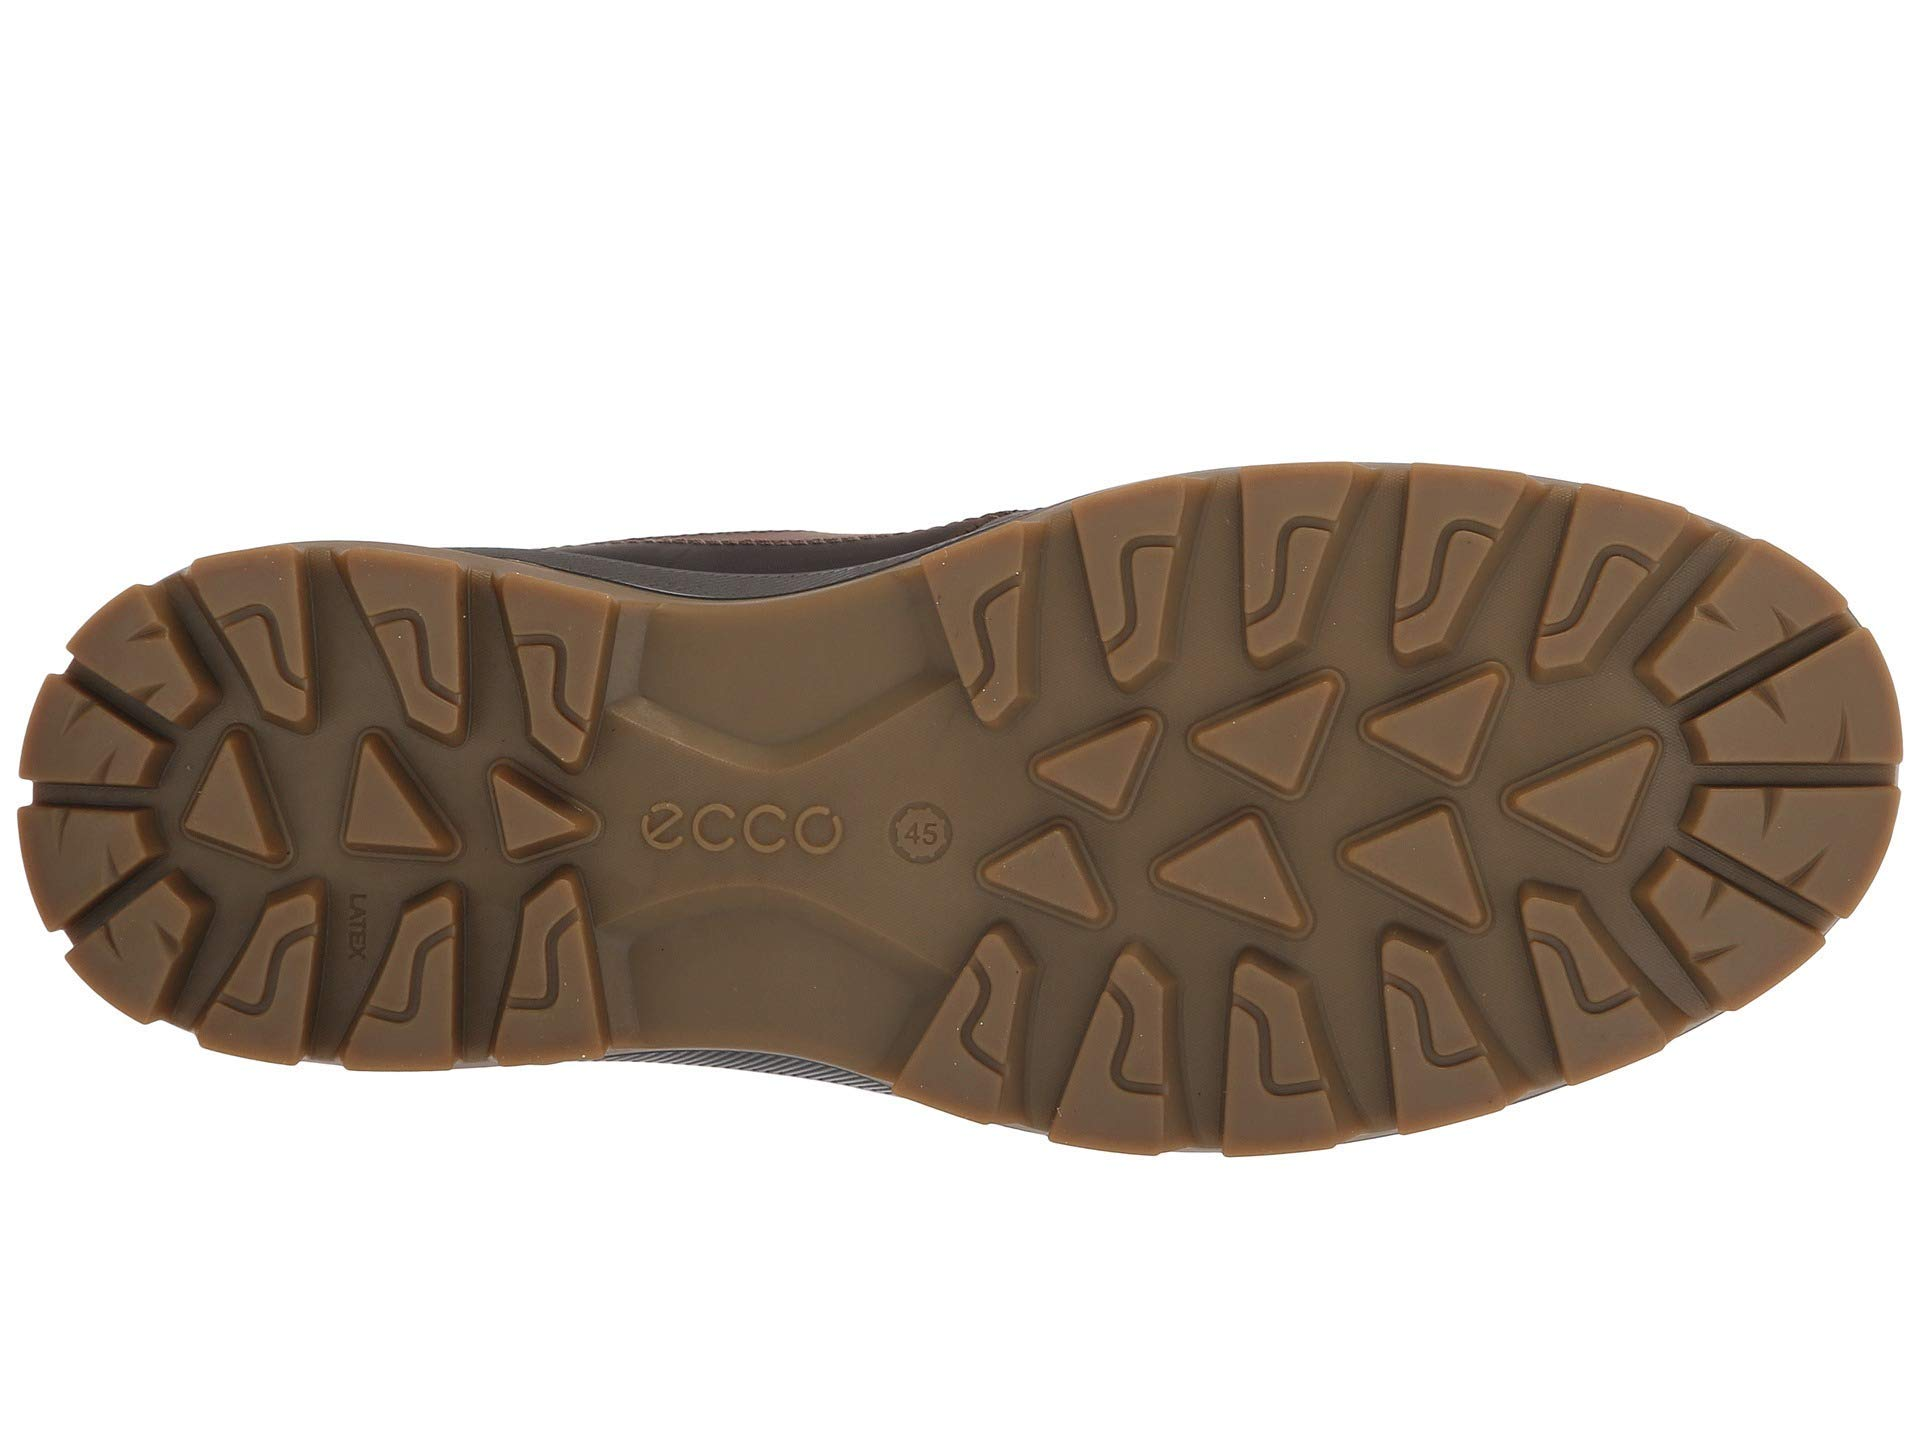circle: (615, 749, 980, 882)
other: (174, 718, 493, 1016)
quad: (1634, 470, 1903, 1030)
text: (174, 718, 493, 1016), (615, 749, 980, 882)
triangle: (1070, 684, 1607, 933), (174, 718, 493, 1016)
